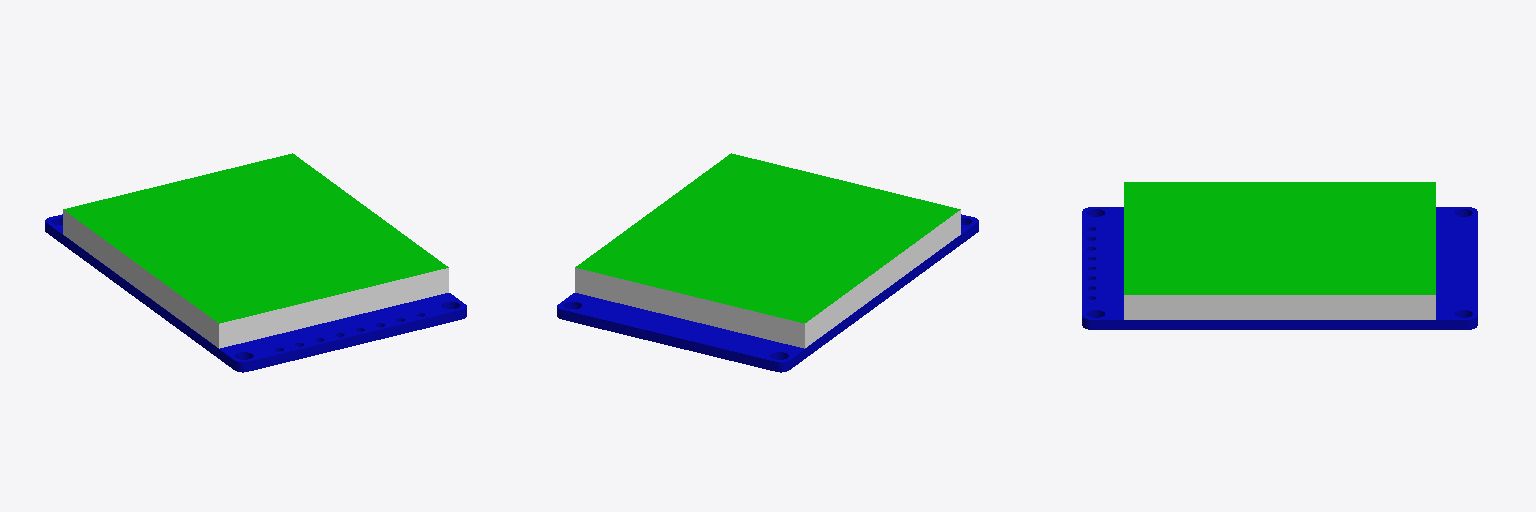
The model's file is displayOLED144.obj.
3 views of the same model, side by side, from view 1: azimuth 30°, elevation 25°; view 2: azimuth 150°, elevation 25°; view 3: azimuth 270°, elevation 25° (orthographic).
Parts seen in each view (by area): view 1: Display_OLED_1.44__High; view 2: Display_OLED_1.44__High; view 3: Display_OLED_1.44__High.
Boxes of the visible parts, <box> form: Display_OLED_1.44__High: <box>45,153,466,372</box>; Display_OLED_1.44__High: <box>557,153,978,372</box>; Display_OLED_1.44__High: <box>1082,182,1477,329</box>.
Bounding box in the file's own units: 0.29 × 0.042 × 0.43.